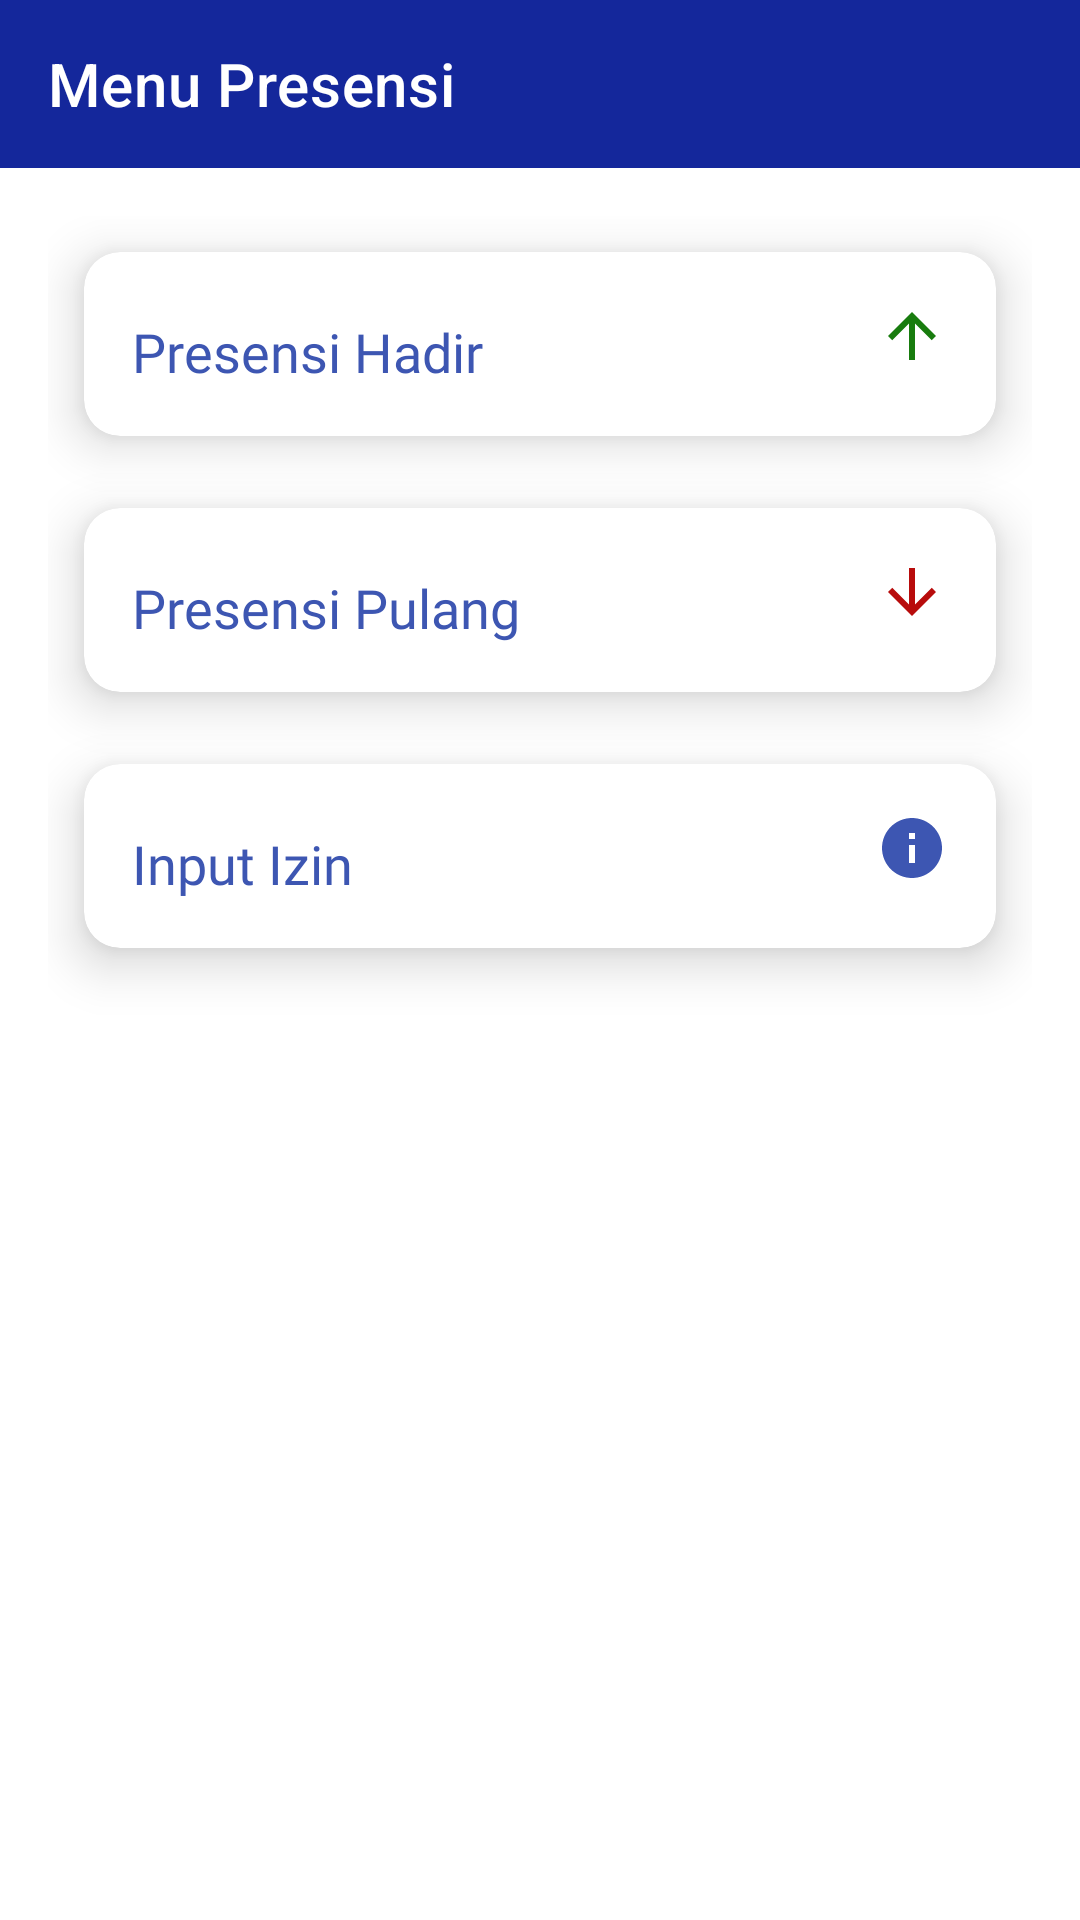

Icons on this 1080×1920 Android screen, each with its box as bbox=(x1, y1, x2, y2):
arrow downward: bbox=(888, 568, 936, 616)
arrow upward: bbox=(888, 312, 936, 360)
info: bbox=(882, 818, 942, 878)
